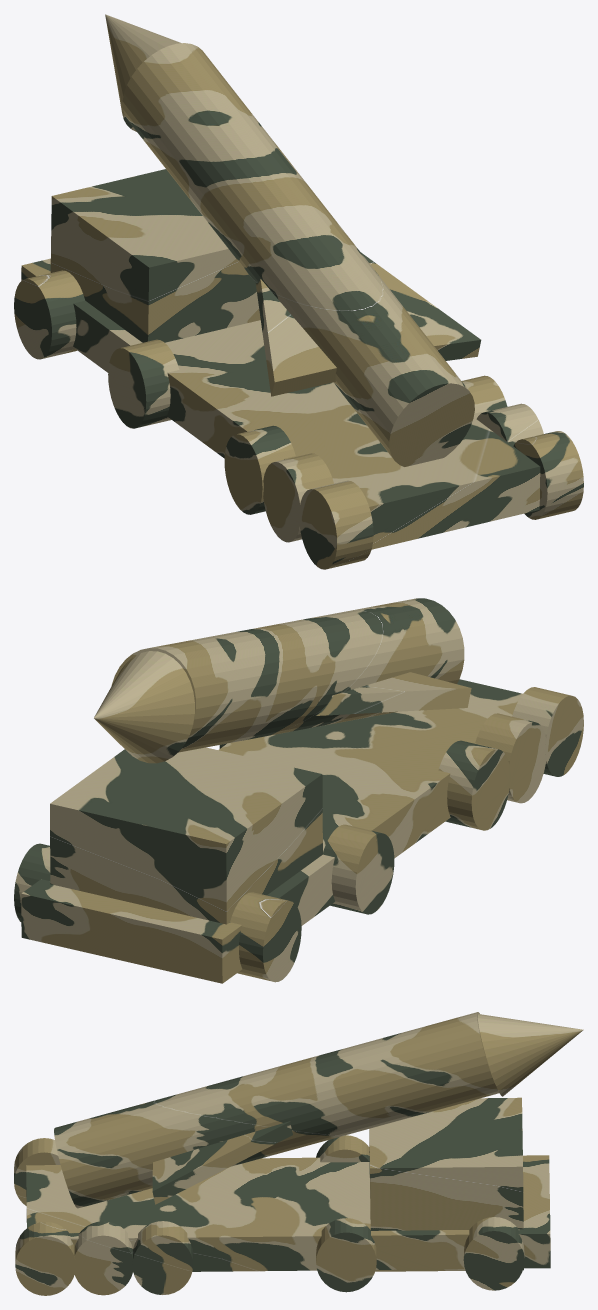
Rendered from DFExpress.fbx.
The picture shows the model from 3 angles, top to bottom: view 1: azimuth 30°, elevation 25°; view 2: azimuth 150°, elevation 25°; view 3: azimuth 270°, elevation 25°; orthographic projection. The views are drawn at different scales.
Parts seen in each view (by area): view 1: base, missile; view 2: base, missile; view 3: base, missile.
Boxes of the visible parts, bbox=[...] form: base: bbox=[14, 169, 583, 569]; missile: bbox=[105, 14, 481, 466]; base: bbox=[14, 679, 583, 983]; missile: bbox=[94, 598, 471, 763]; base: bbox=[14, 1097, 550, 1295]; missile: bbox=[54, 1012, 583, 1208].
Size of the model in its own units: 440 by 494 by 1088.
Materials: 2 (2 with a texture image).
